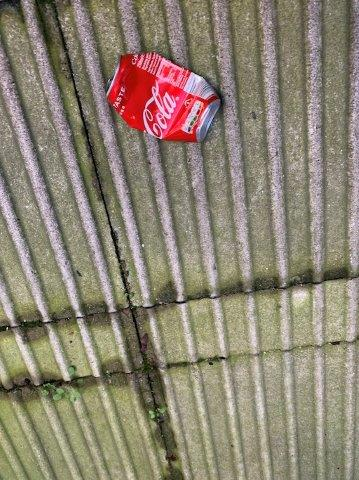kaleng: (108, 53, 219, 142)
